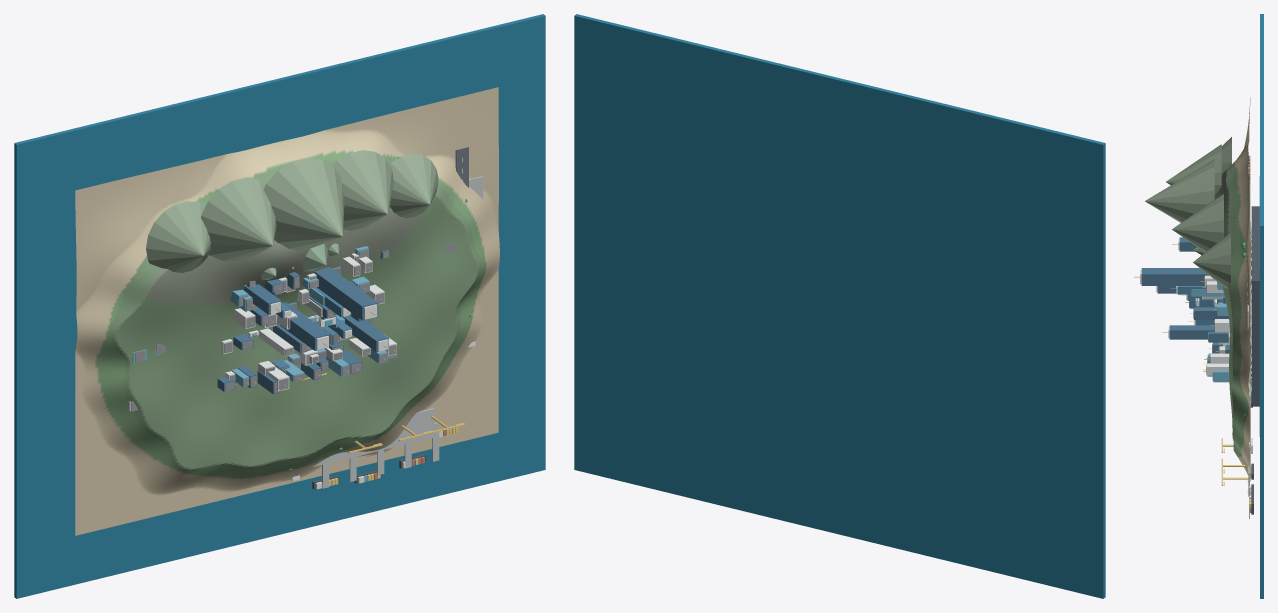
File: sovereign_explorable_island.glb
The picture shows the model from 3 angles, left to right: view 1: azimuth 30°, elevation 25°; view 2: azimuth 150°, elevation 25°; view 3: azimuth 270°, elevation 25°; orthographic projection. The views are drawn at different scales.
Visible parts, largest first — view 1: terrain, ocean, mountain, glassdark, white, roof, concrete, glass; view 2: ocean; view 3: terrain, mountain, glassdark, ocean, Deep island rock base, white, glass, gold, Ocean display base, roof.
Part boxes in pixels (x1,y1,x2,y2): terrain: (75,87,499,535); ocean: (14,14,545,598); mountain: (146,150,438,272); glassdark: (217,250,389,394); white: (221,157,475,489); roof: (131,243,453,411); concrete: (127,176,483,488); glass: (132,246,412,481); ocean: (574,14,1105,598); terrain: (1214,97,1250,481); mountain: (1145,137,1231,288); glassdark: (1141,237,1229,363); ocean: (1260,14,1263,598); Deep island rock base: (1251,206,1259,406); white: (1140,172,1252,501); glass: (1191,282,1251,489); gold: (1134,244,1249,492); Ocean display base: (1259,176,1259,436); roof: (1189,162,1233,380).
Size of the model in its own units: 250 by 205 by 64.75.
